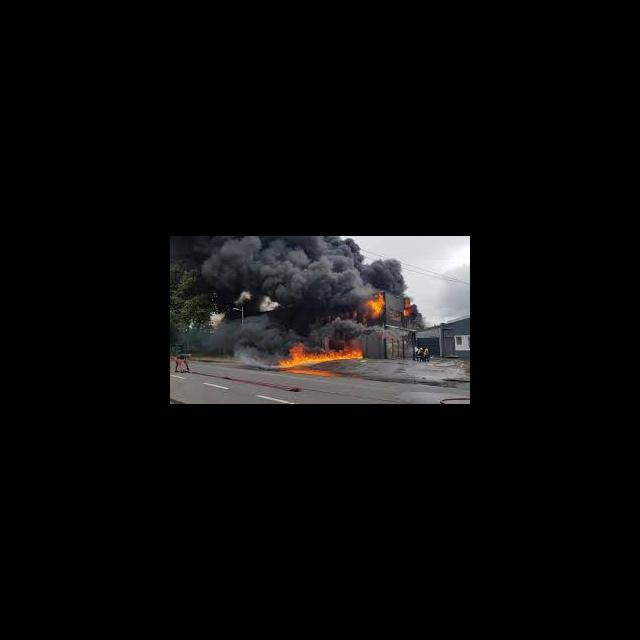Fire: (269, 337, 365, 370), (368, 290, 386, 318), (402, 298, 412, 318)
Smoke: (171, 237, 366, 314), (172, 317, 268, 363), (269, 316, 411, 338), (368, 258, 407, 290)
